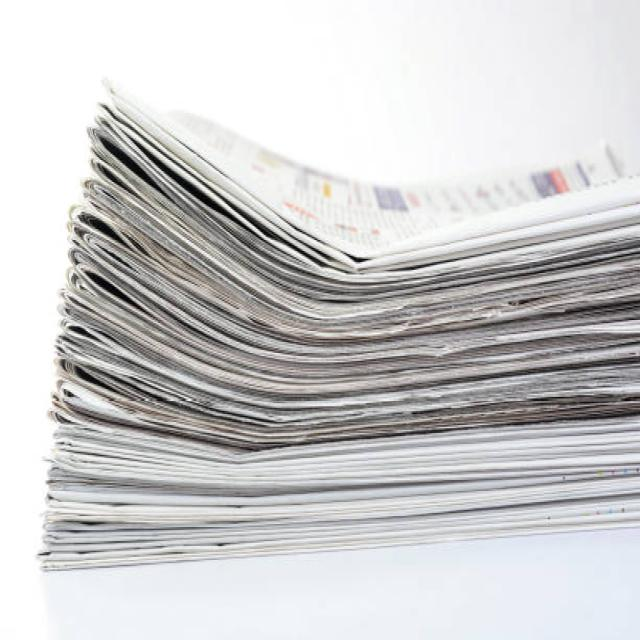electronic: (37, 75, 639, 573), (155, 102, 632, 268)
